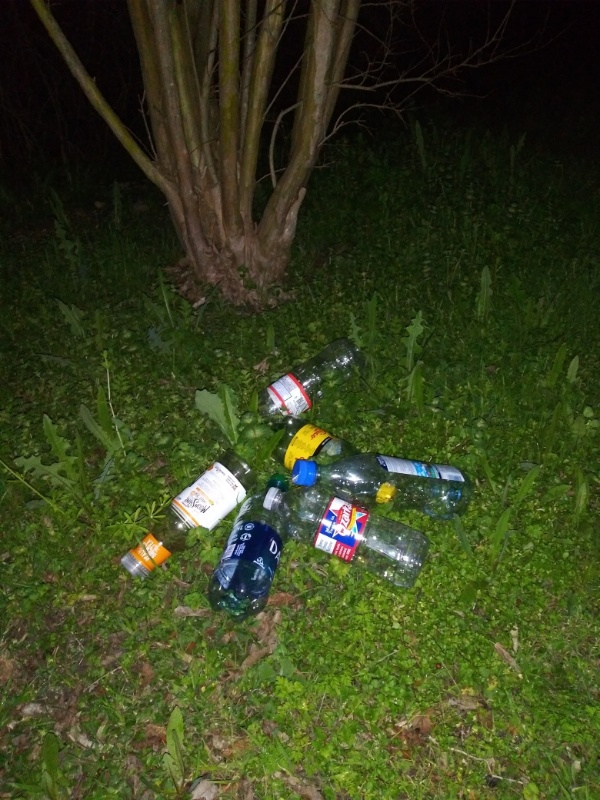bottle: (114, 444, 261, 589), (263, 486, 436, 588), (202, 473, 292, 622), (255, 415, 399, 507), (292, 454, 471, 518), (249, 335, 367, 430)
